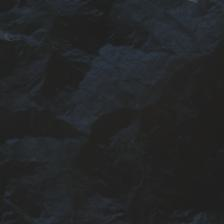landslides: (208, 167, 224, 199), (154, 106, 172, 130), (178, 135, 197, 156), (202, 78, 214, 103), (4, 33, 17, 42), (199, 61, 206, 77)
